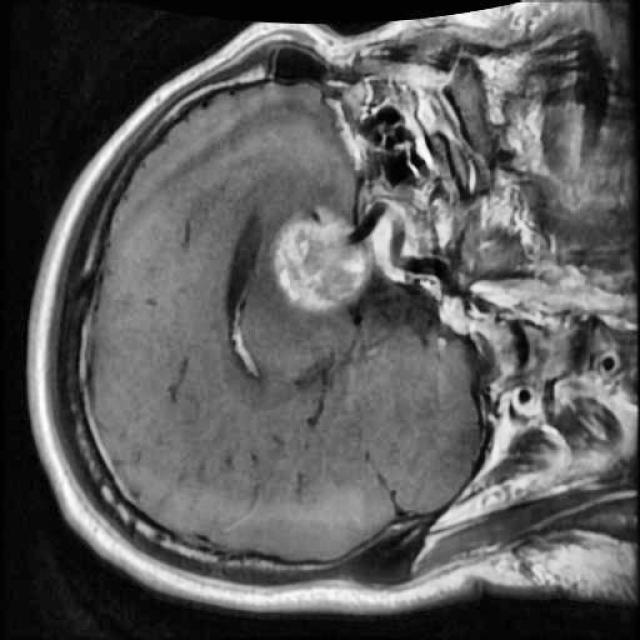Tumor: (269, 196, 376, 324)
